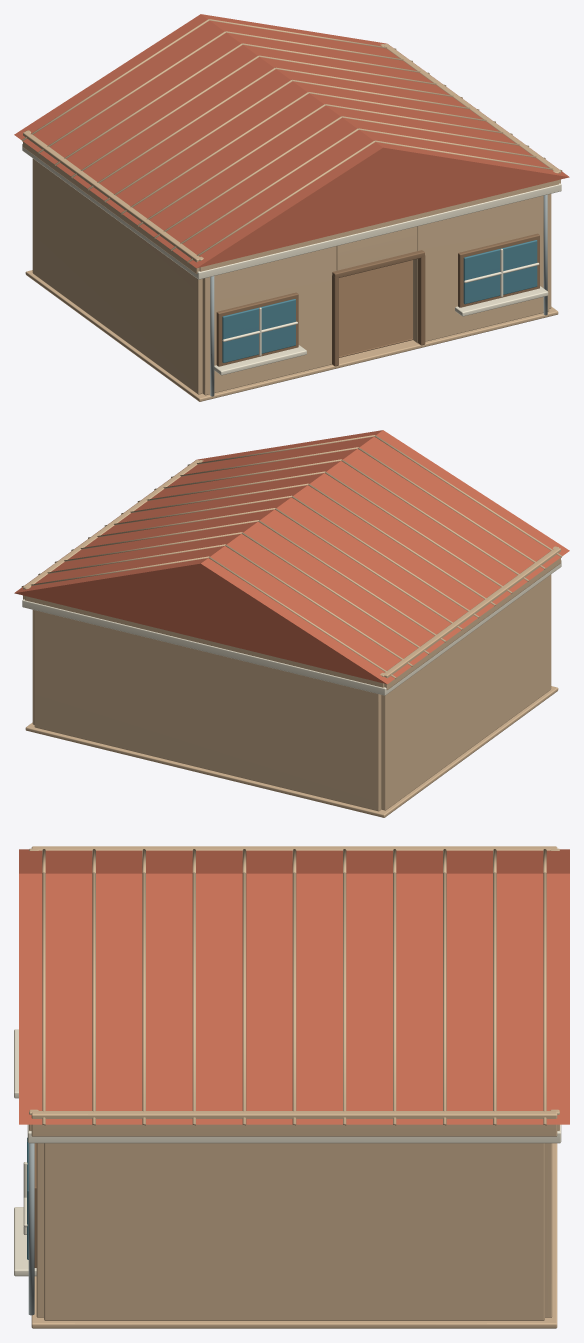
Rendered from house.glb.
The picture shows the model from 3 angles, top to bottom: view 1: azimuth 30°, elevation 25°; view 2: azimuth 150°, elevation 25°; view 3: azimuth 270°, elevation 25°; orthographic projection. The views are drawn at different scales.
Parts seen in each view (by area): view 1: red, sand, wood, glass, cream, metal; view 2: sand, red, cream; view 3: red, sand, cream, metal.
Boxes of the visible parts, left/top/right/bottom form: red: left=14, top=14, right=569, bottom=268; sand: left=21, top=19, right=562, bottom=401; wood: left=216, top=233, right=539, bottom=366; glass: left=222, top=240, right=537, bottom=362; cream: left=22, top=144, right=561, bottom=375; metal: left=210, top=194, right=547, bottom=396; sand: left=21, top=435, right=562, bottom=817; red: left=14, top=430, right=569, bottom=684; cream: left=22, top=560, right=561, bottom=695; red: left=19, top=849, right=569, bottom=1124; sand: left=29, top=846, right=559, bottom=1328; cream: left=14, top=1029, right=561, bottom=1276; metal: left=28, top=1143, right=34, bottom=1315.
Size of the model in its own units: 13.03 by 7.15 by 11.1.
